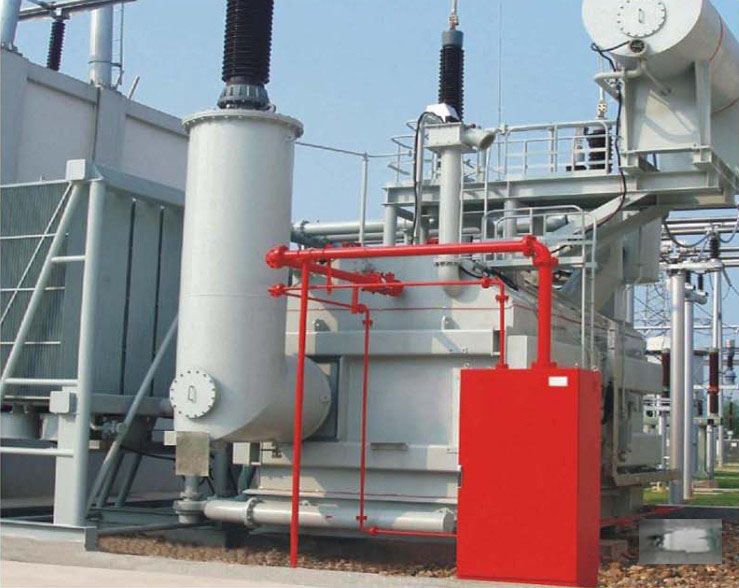oil: (640, 521, 719, 565)
